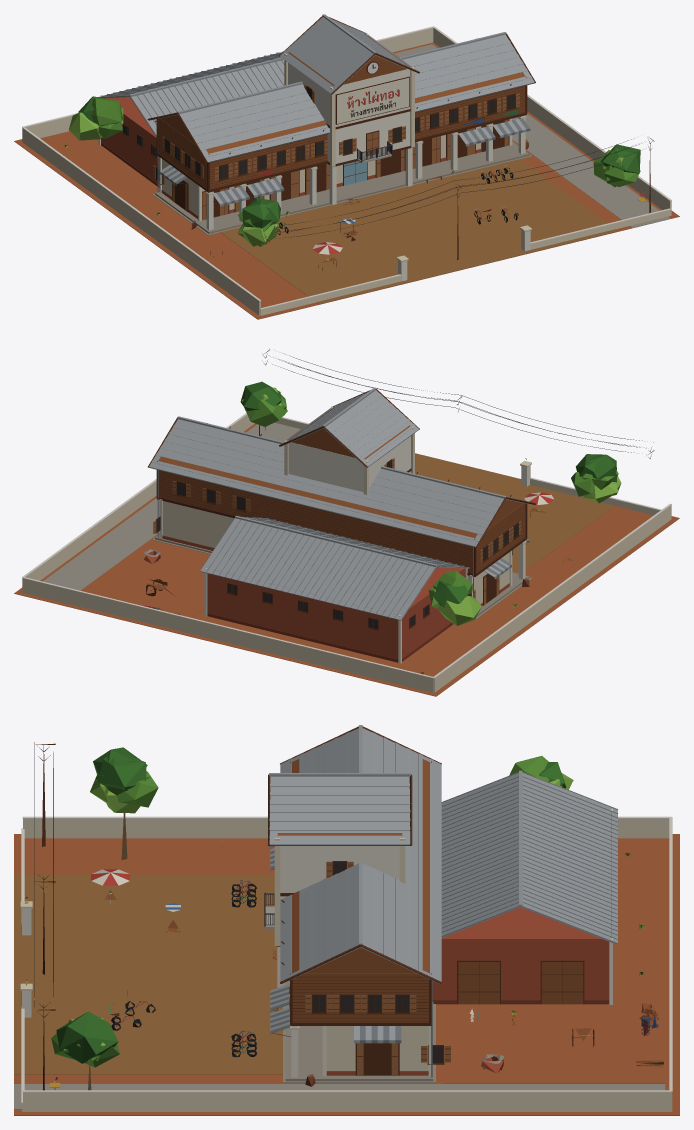
The model's file is store.glb.
The picture shows the model from 3 angles, top to bottom: view 1: azimuth 30°, elevation 25°; view 2: azimuth 150°, elevation 25°; view 3: azimuth 270°, elevation 25°; orthographic projection. The views are drawn at different scales.
Parts seen in each view (by area): view 1: body, windows; view 2: body, windows; view 3: body, windows.
Boxes of the visible parts, x1=… form: body: x1=14, y1=14, x2=679, y2=319; windows: x1=123, y1=87, x2=515, y2=181; body: x1=14, y1=348, x2=679, y2=696; windows: x1=156, y1=460, x2=518, y2=628; body: x1=14, y1=725, x2=679, y2=1115; windows: x1=24, y1=862, x2=442, y2=1062.
Size of the model in its own units: 47.9 by 16.32 by 47.9.
